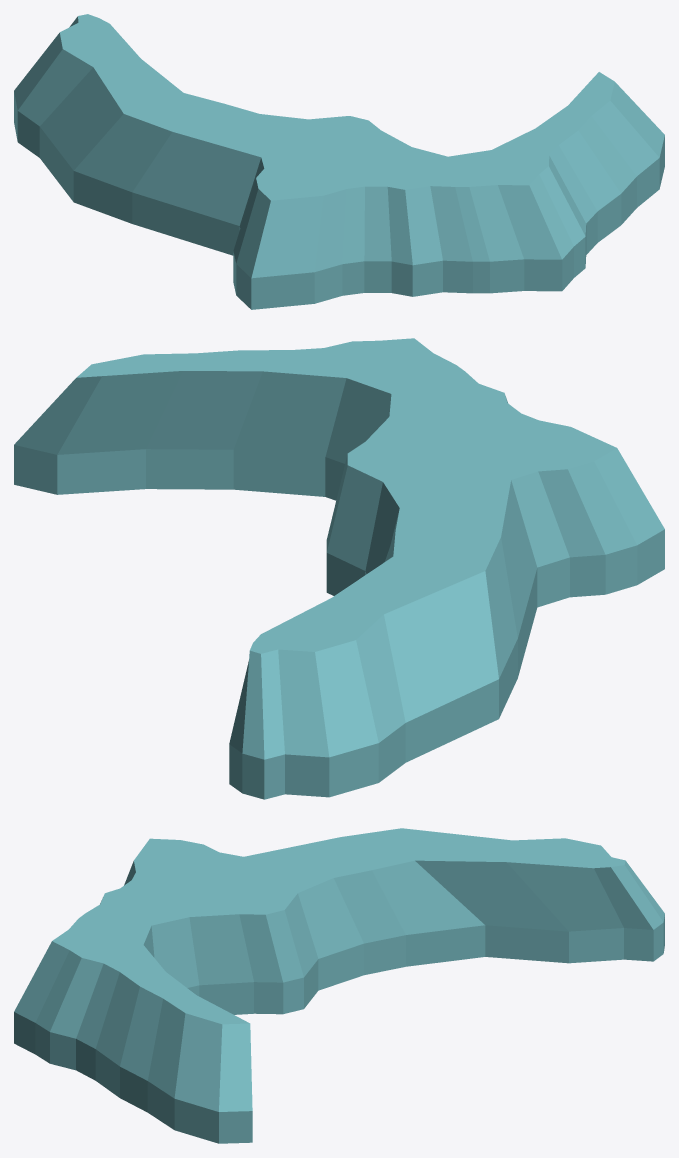
Rendered from BlueObstacle1.fbx.
3 views of the same model, one above another, from view 1: azimuth 30°, elevation 25°; view 2: azimuth 150°, elevation 25°; view 3: azimuth 270°, elevation 25° (orthographic). The views are drawn at different scales.
Visible parts, largest first — view 1: BlueObstacle1; view 2: BlueObstacle1; view 3: BlueObstacle1.
Boxes of the visible parts, left/top/right/bottom form: BlueObstacle1: left=14, top=14, right=664, bottom=309; BlueObstacle1: left=14, top=338, right=664, bottom=799; BlueObstacle1: left=14, top=828, right=664, bottom=1143.
Bounding box in the file's own units: 7.63 × 1.45 × 8.94.
